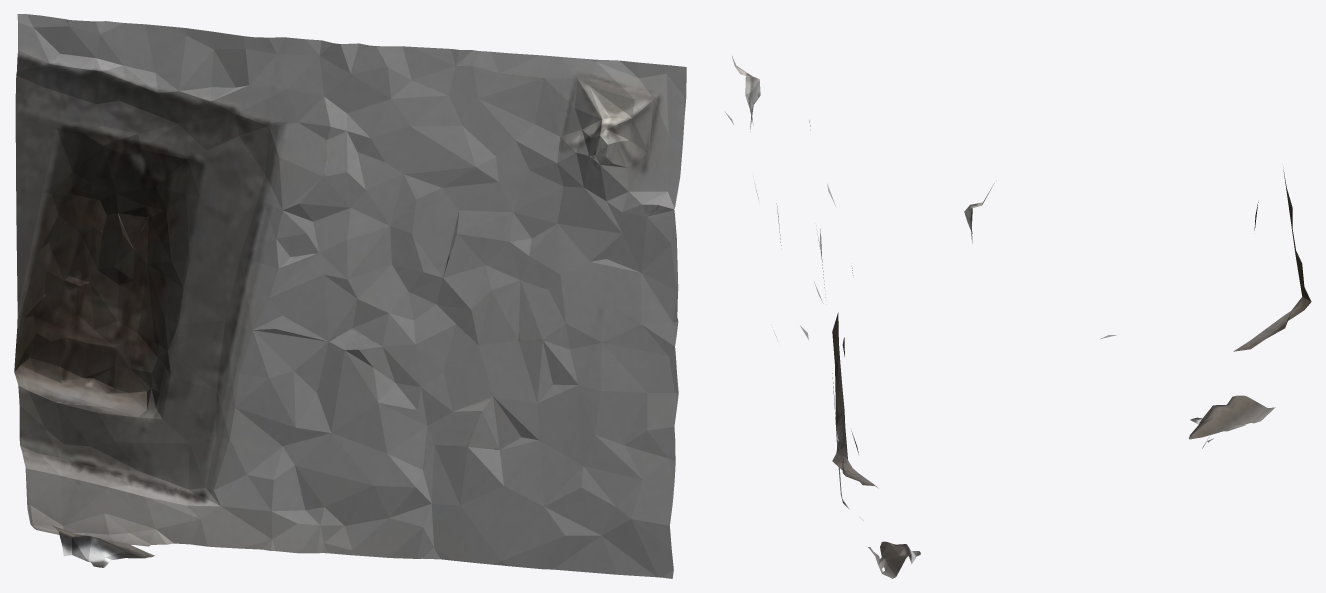
The picture shows the model from 3 angles, left to right: view 1: azimuth 30°, elevation 25°; view 2: azimuth 150°, elevation 25°; view 3: azimuth 270°, elevation 25°; orthographic projection. The views are drawn at different scales.
Size of the model in its own units: 1.54 by 1.67 by 1.38.
Materials: 3 (3 with a texture image).
